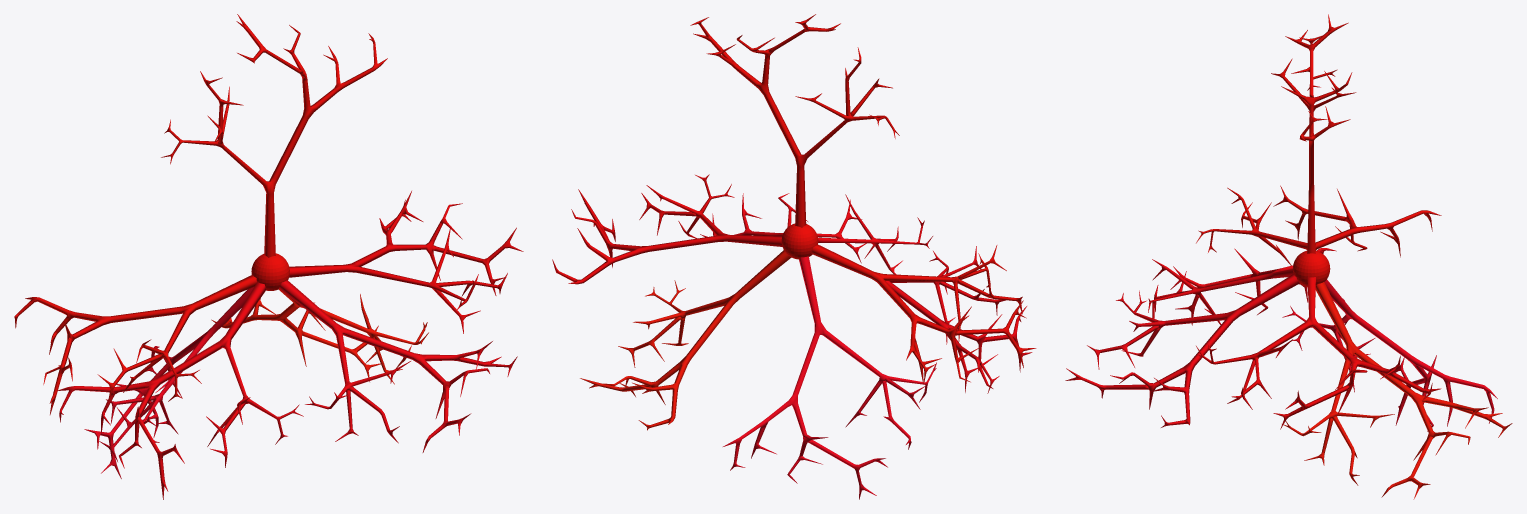
Rendered from asset.glb.
3 renders of one model, left to right at view 1: azimuth 30°, elevation 25°; view 2: azimuth 150°, elevation 25°; view 3: azimuth 270°, elevation 25°, orthographic. The views are drawn at different scales.
Visible parts, largest first — view 1: Plane.002, Plane, Plane.006, Plane.005, Plane.001, Plane.004, Plane.003, neuron05ani; view 2: Plane.004, Plane.006, Plane, Plane.003, Plane.001, Plane.005, Plane.002, neuron05ani; view 3: Plane.002, Plane.003, Plane.001, Plane.006, Plane, Plane.004, Plane.005, neuron05ani.
Boxes of the visible parts, <box> form: Plane.002: <box>278,280,517,452</box>; Plane: <box>161,14,387,257</box>; Plane.006: <box>14,275,256,414</box>; Plane.005: <box>58,282,303,499</box>; Plane.001: <box>289,191,523,333</box>; Plane.004: <box>84,287,253,478</box>; Plane.003: <box>211,289,428,384</box>; neuron05ani: <box>251,253,289,290</box>; Plane.004: <box>723,256,936,499</box>; Plane.006: <box>811,244,1036,384</box>; Plane: <box>690,14,899,227</box>; Plane.003: <box>580,250,791,430</box>; Plane.001: <box>552,174,782,284</box>; Plane.005: <box>866,246,1032,393</box>; Plane.002: <box>700,193,932,274</box>; neuron05ani: <box>781,223,818,259</box>; Plane.002: <box>1065,274,1299,427</box>; Plane.003: <box>1283,282,1512,499</box>; Plane.001: <box>1196,277,1441,429</box>; Plane.006: <box>1196,185,1441,265</box>; Plane: <box>1271,14,1356,253</box>; Plane.004: <box>1282,279,1497,431</box>; Plane.005: <box>1148,248,1336,325</box>; neuron05ani: <box>1293,250,1330,286</box>.
Size of the model in its own units: 5.65 by 5.29 by 4.77.
